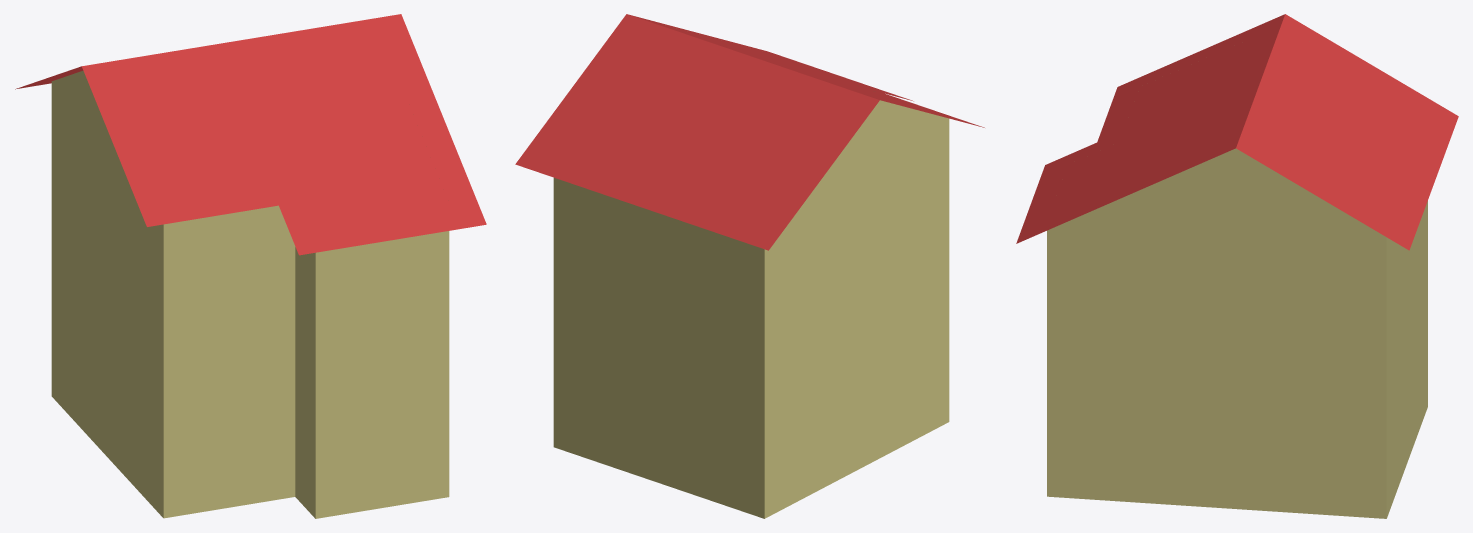
3 renders of one model, left to right at view 1: azimuth 30°, elevation 25°; view 2: azimuth 150°, elevation 25°; view 3: azimuth 270°, elevation 25°, orthographic. The views are drawn at different scales.
Visible parts, largest first — view 1: group_5, group_3, group_4; view 2: group_5, group_3, group_4; view 3: group_5, group_3, group_4.
Part boxes in pixels (bbox=[...]): group_5: bbox=[51, 70, 449, 518]; group_3: bbox=[23, 18, 448, 225]; group_4: bbox=[15, 14, 486, 255]; group_5: bbox=[553, 100, 949, 518]; group_3: bbox=[554, 14, 946, 250]; group_4: bbox=[515, 14, 984, 250]; group_5: bbox=[1047, 148, 1427, 518]; group_3: bbox=[1047, 14, 1458, 223]; group_4: bbox=[1016, 14, 1458, 250].
Size of the model in its own units: 10.26 by 12.24 by 11.36.
